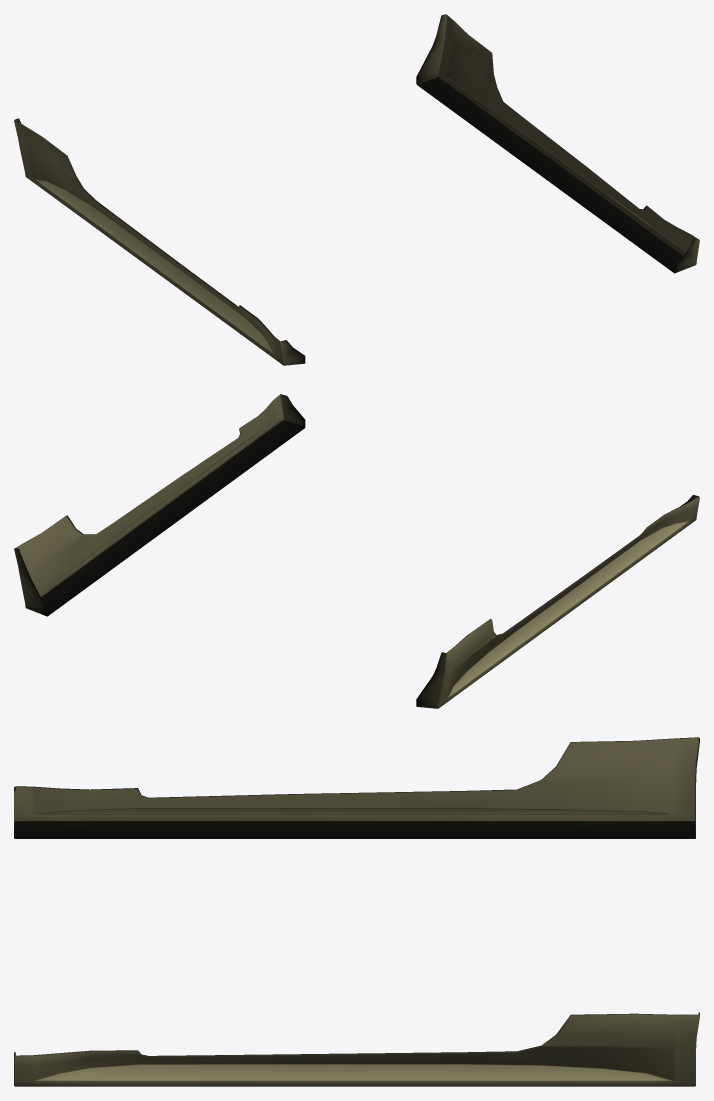
The model's file is Mustang16_Skirt_04_Duco.fbx.
3 renders of one model, top to bottom at view 1: azimuth 30°, elevation 25°; view 2: azimuth 150°, elevation 25°; view 3: azimuth 270°, elevation 25°, orthographic. The views are drawn at different scales.
Visible parts, largest first — view 1: Mustang16_Skirt_04_Duco; view 2: Mustang16_Skirt_04_Duco; view 3: Mustang16_Skirt_04_Duco.
Boxes of the visible parts, left/top/right/bottom form: Mustang16_Skirt_04_Duco: left=14, top=14, right=699, bottom=365; Mustang16_Skirt_04_Duco: left=14, top=394, right=699, bottom=708; Mustang16_Skirt_04_Duco: left=14, top=737, right=699, bottom=1086.
Bounding box in the file's own units: 185 × 25.34 × 192.
